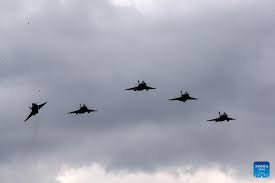plane: (21, 98, 48, 121), (123, 79, 156, 91), (168, 89, 198, 102), (66, 102, 98, 114), (205, 110, 235, 122)
